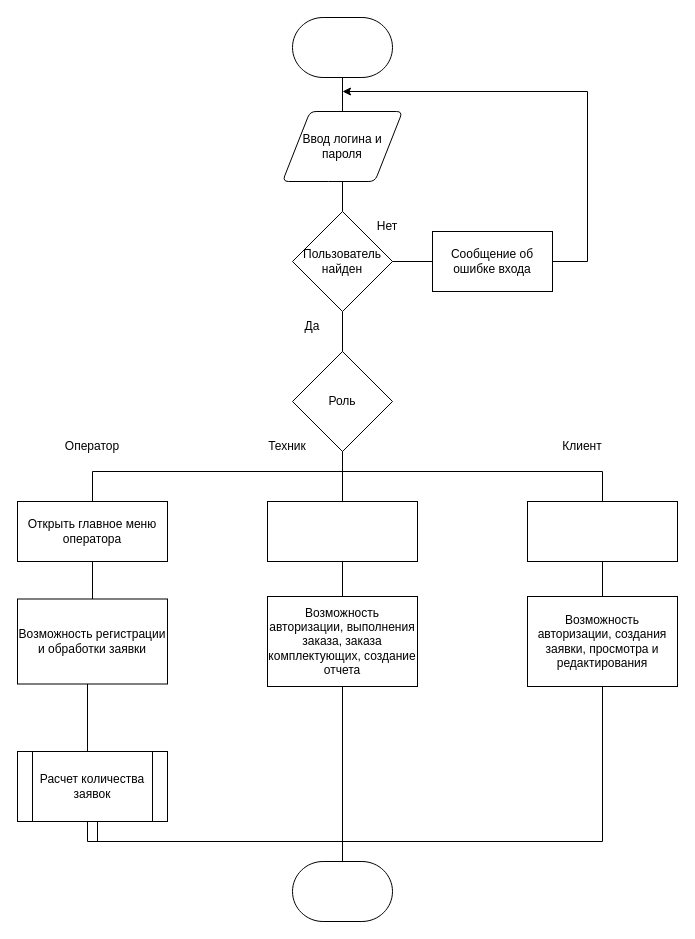
This 695x939 diagram has some shape labels left out. The shapes that lost their labels are listed below. From the top down, each one's centre as x and y in pixels, then its label:
At pixel 342 47: "Начало".
At pixel 342 531: "Открыть главное меню техника".
At pixel 602 531: "Открыть главное меню клиента".
At pixel 342 891: "Конец".
